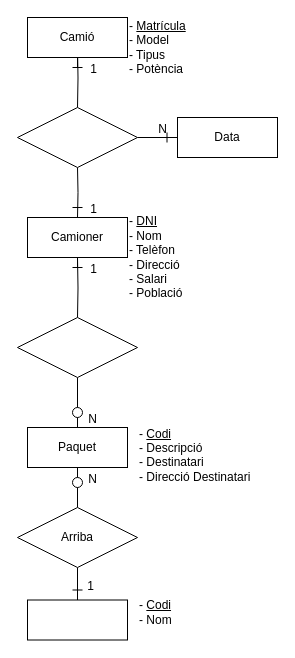
This 295x658 diagram has some shape labels left out. Each missing label, with the centre of its shape:
"Porta" goes at point (77, 137).
"Província" goes at point (77, 619).
"Transporta" goes at point (77, 347).
